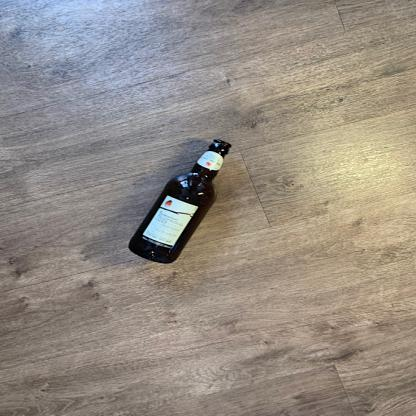trash: (128, 137, 233, 266)
